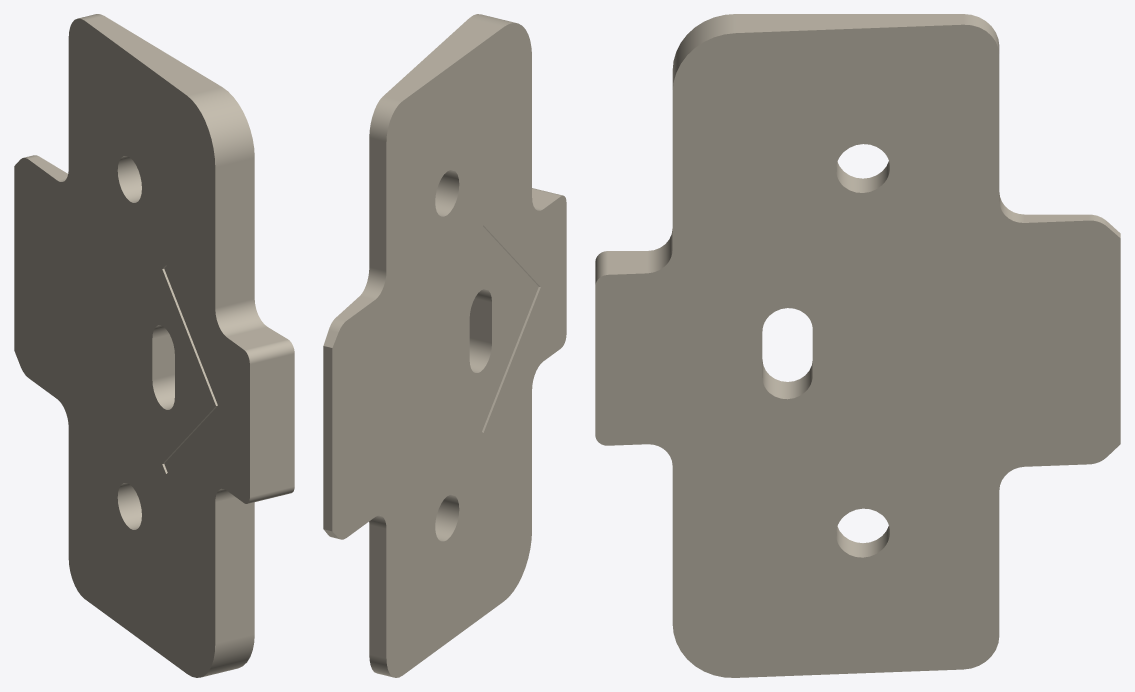
3 renders of one model, left to right at view 1: azimuth 30°, elevation 25°; view 2: azimuth 150°, elevation 25°; view 3: azimuth 270°, elevation 25°, orthographic. The views are drawn at different scales.
Parts seen in each view (by area): view 1: bau0006168397; view 2: bau0006168397; view 3: bau0006168397.
Part boxes in pixels (<box>): bau0006168397: <box>14,14,294,677</box>; bau0006168397: <box>323,14,566,677</box>; bau0006168397: <box>595,14,1120,677</box>.
Size of the model in its own units: 4.58 by 56.6 by 41.8.
